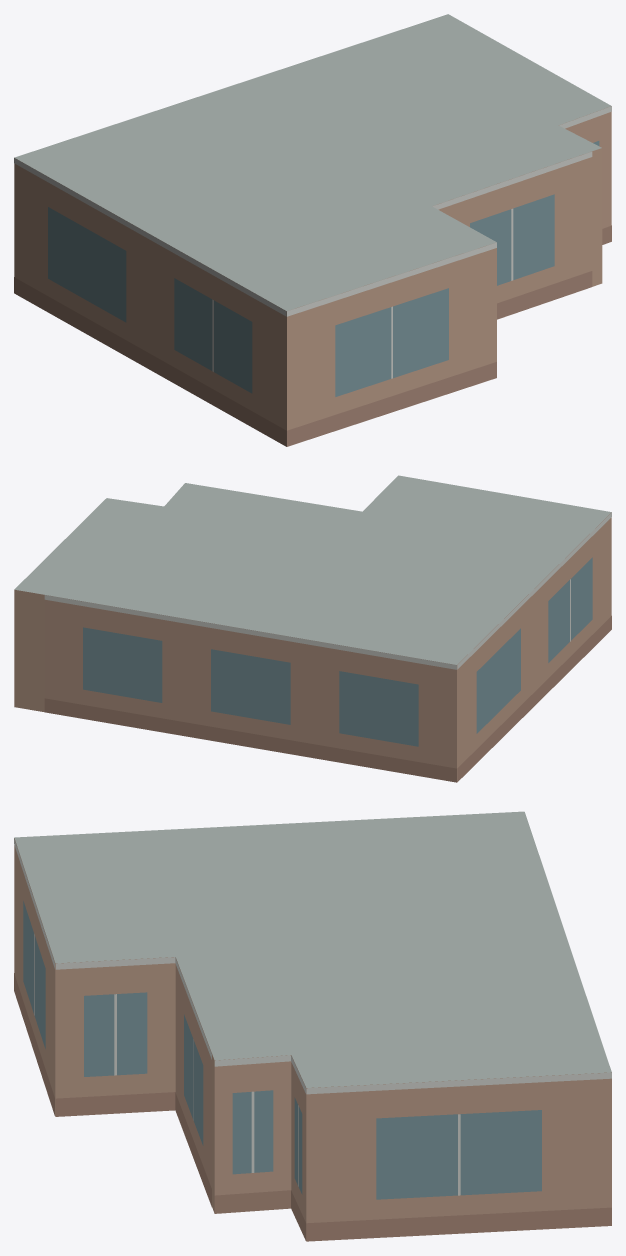
File: survey-upis-32633927.glb
3 views of the same model, one above another, from view 1: azimuth 30°, elevation 25°; view 2: azimuth 150°, elevation 25°; view 3: azimuth 270°, elevation 25° (orthographic). The views are drawn at different scales.
Parts seen in each view (by area): view 1: survey-upis-32633927.tmp; view 2: survey-upis-32633927.tmp; view 3: survey-upis-32633927.tmp.
Boxes of the visible parts, <box> form: survey-upis-32633927.tmp: <box>14,14,611,446</box>; survey-upis-32633927.tmp: <box>14,475,611,782</box>; survey-upis-32633927.tmp: <box>14,811,611,1241</box>.
Bounding box in the file's own units: 11.81 × 3.05 × 10.78.
